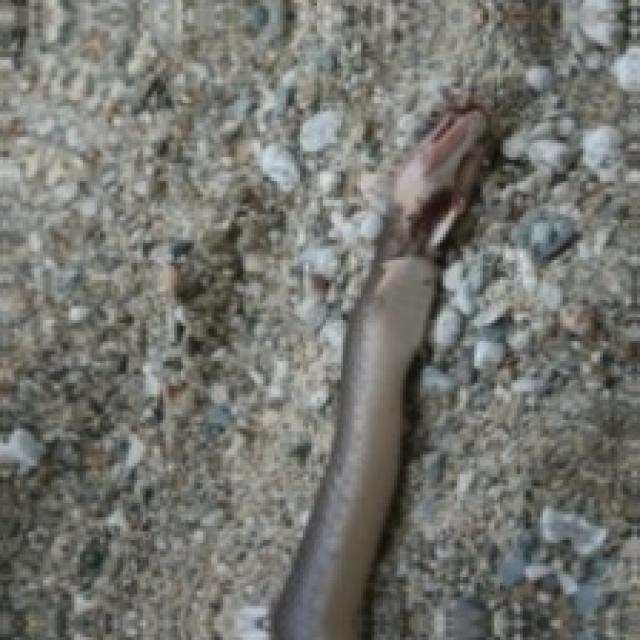reddish rat snake: (271, 103, 491, 637)
